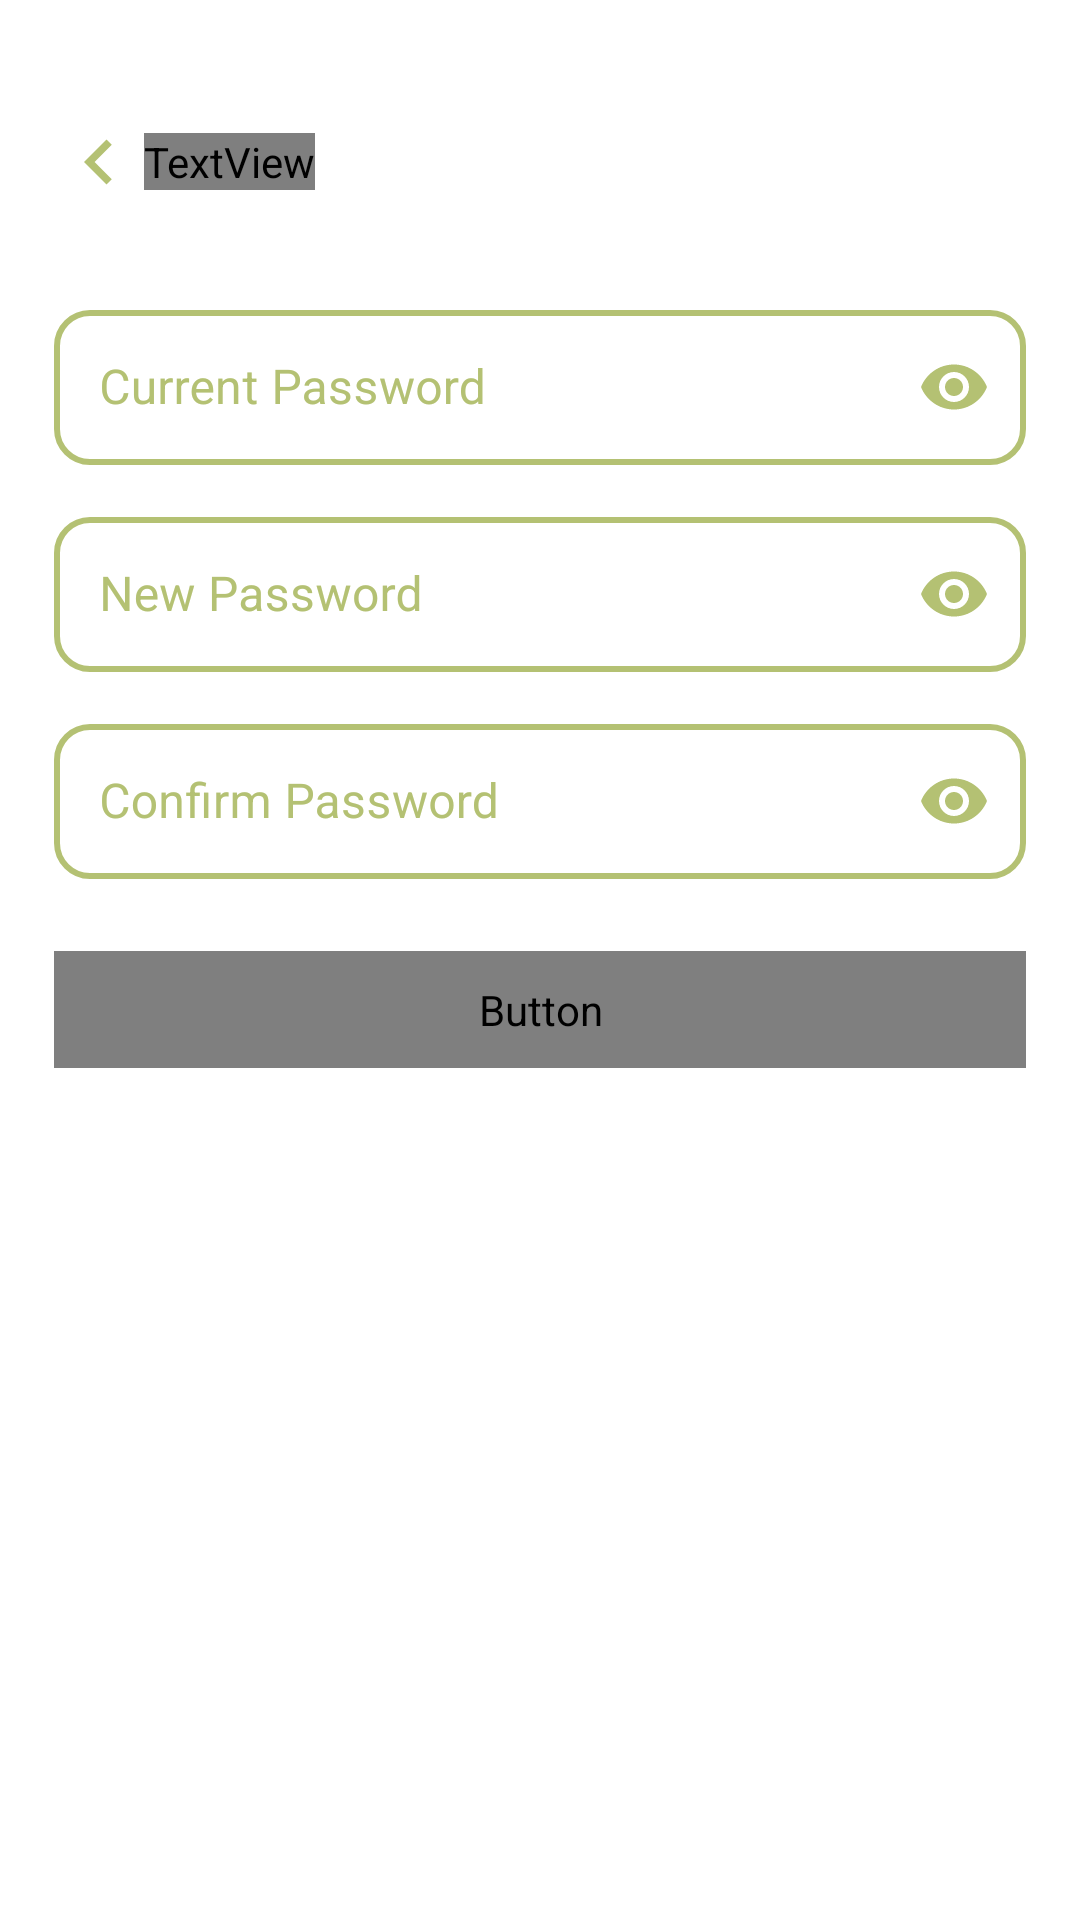

Icon click points for this 1080x1920 phone screenshot, format [x,y]:
back button: [98,162]
